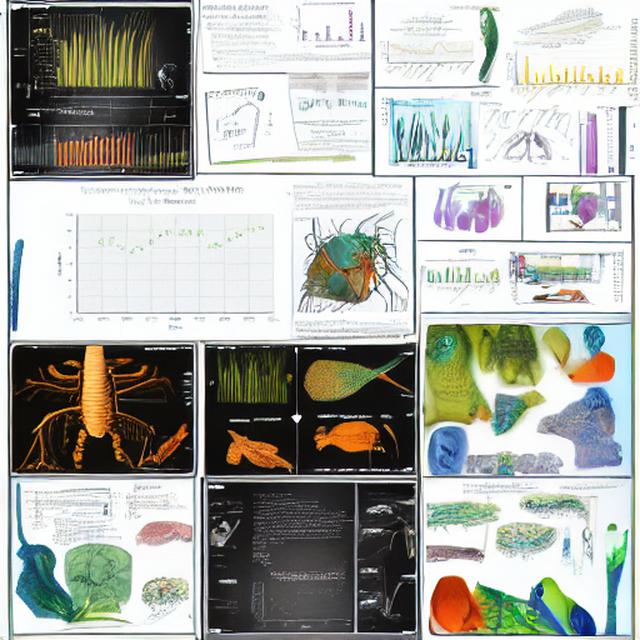Graph: (51, 183, 283, 336), (248, 570, 353, 633), (505, 40, 595, 108), (375, 25, 476, 84), (43, 122, 133, 176), (418, 258, 503, 307), (286, 0, 370, 49)
